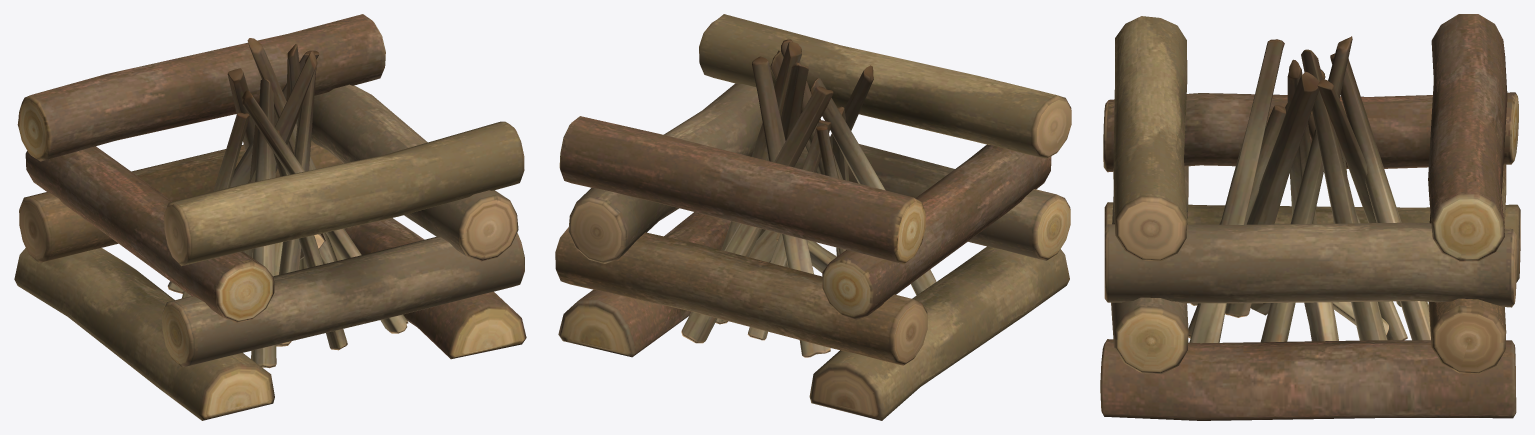
The model's file is EvtobjCampfire.glb.
3 renders of one model, left to right at view 1: azimuth 30°, elevation 25°; view 2: azimuth 150°, elevation 25°; view 3: azimuth 270°, elevation 25°, orthographic. The views are drawn at different scales.
Visible parts, largest first — view 1: Long_branch1__mBody; view 2: Long_branch1__mBody; view 3: Long_branch1__mBody.
Part boxes in pixels (x1,y1,x2,y2): Long_branch1__mBody: [14, 14, 526, 420]; Long_branch1__mBody: [555, 14, 1071, 420]; Long_branch1__mBody: [1100, 14, 1520, 420].
Size of the model in its own units: 16.64 by 12.49 by 15.89.
1 material, 1 textured.
